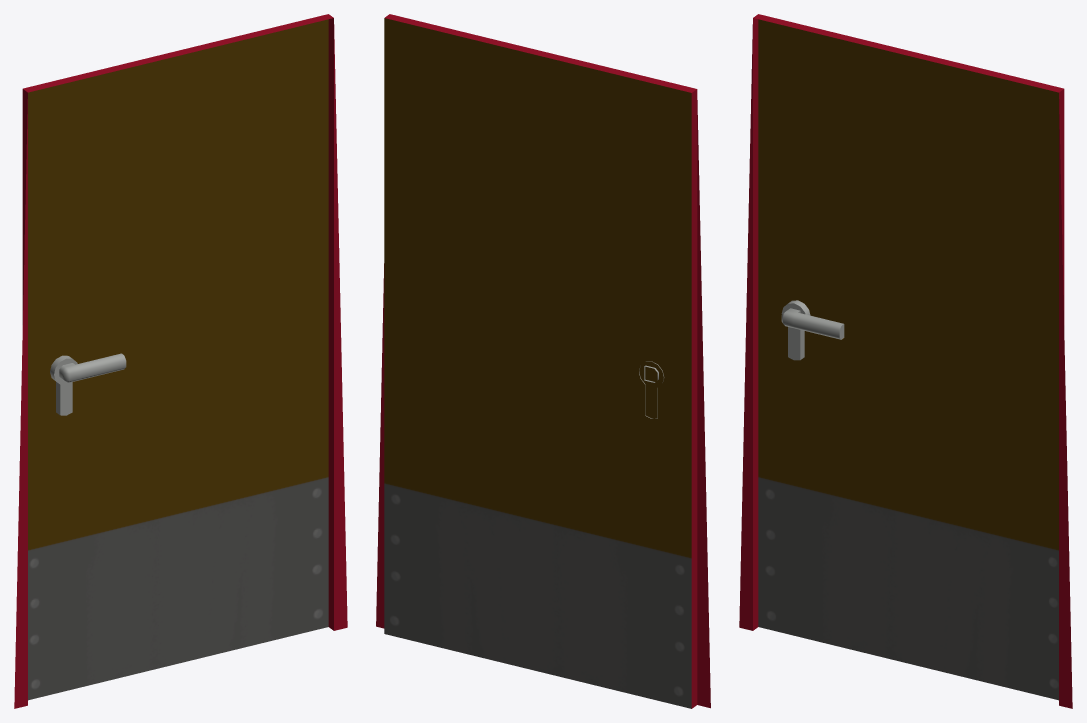
Rendered from door.fbx.
3 views of the same model, side by side, from view 1: azimuth 30°, elevation 25°; view 2: azimuth 150°, elevation 25°; view 3: azimuth 330°, elevation 25° (orthographic).
Parts seen in each view (by area): view 1: door; view 2: door; view 3: door.
Boxes of the visible parts, box(x1,y1,x2,y2) form: door: box(14, 14, 347, 708); door: box(376, 14, 710, 708); door: box(739, 14, 1072, 708).
Size of the model in its own units: 27.61 by 48.53 by 1.77.
